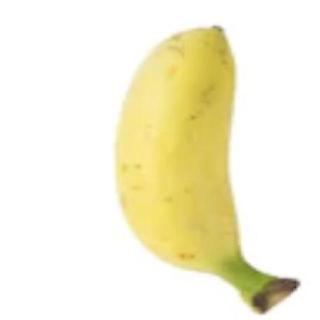banana: (111, 22, 247, 276)
